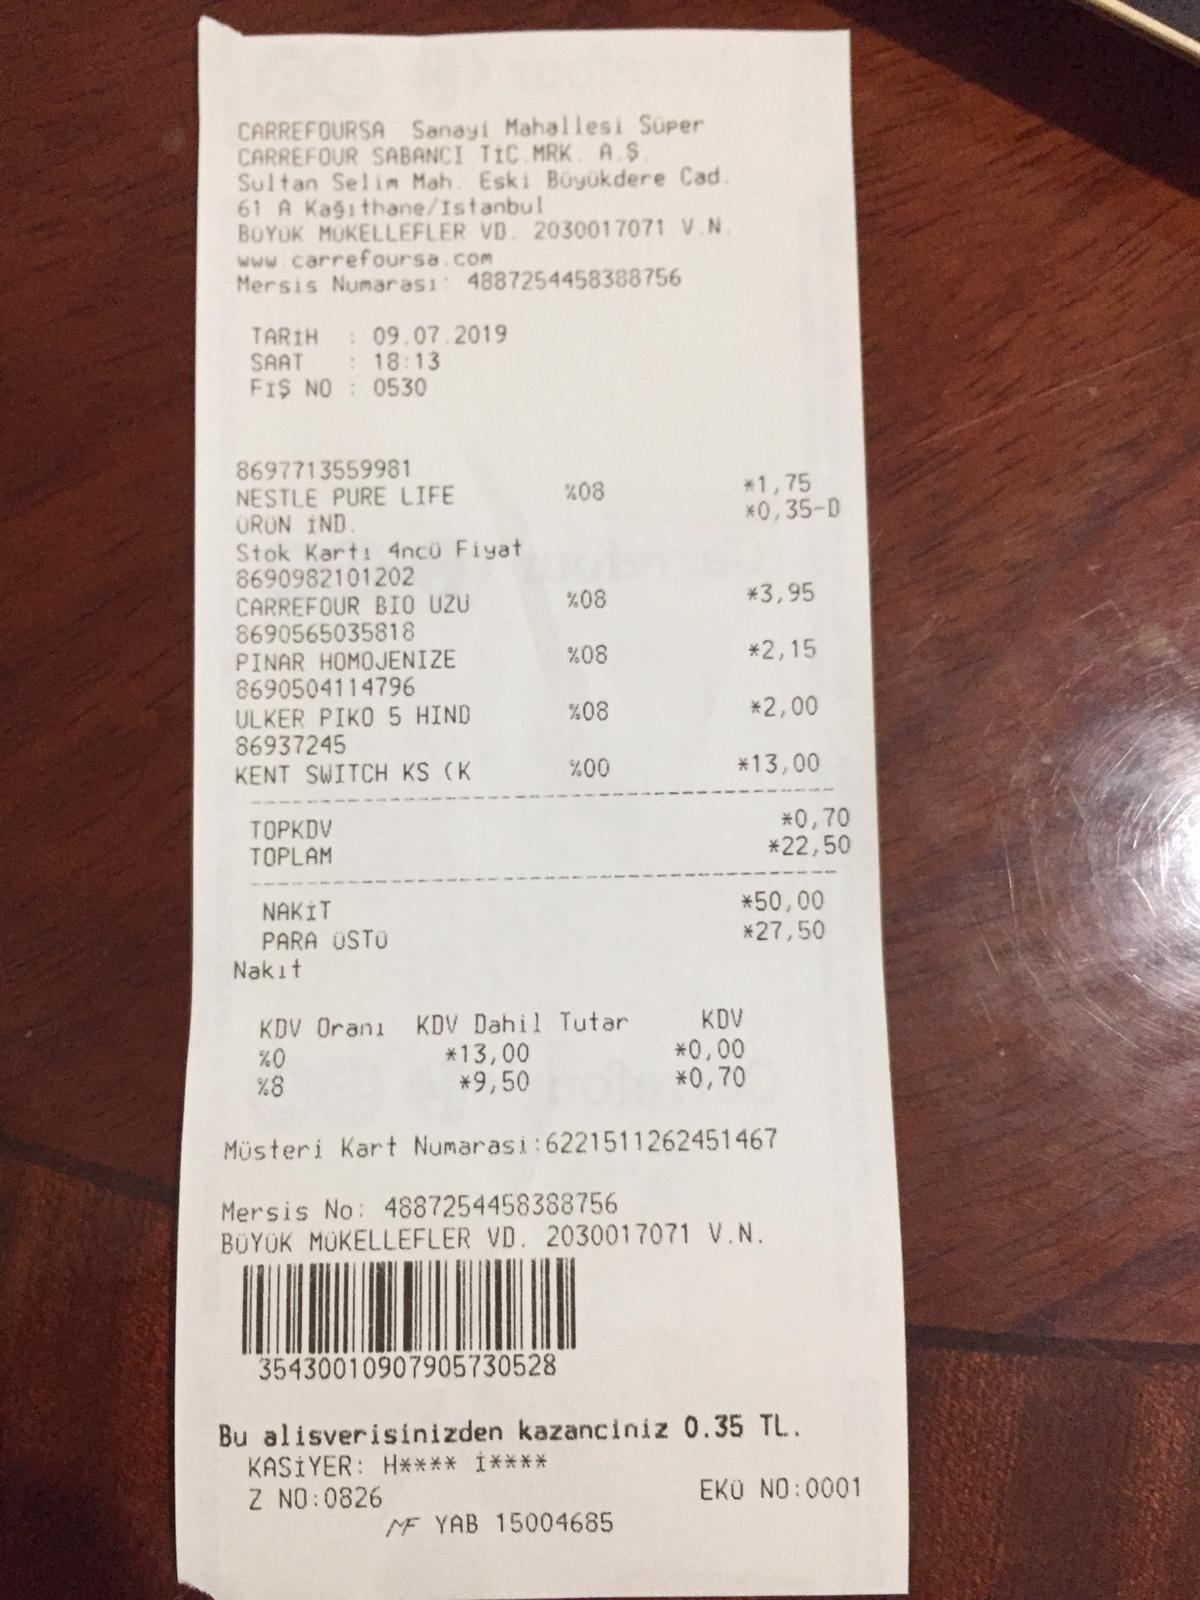total: (245, 833, 862, 869)
